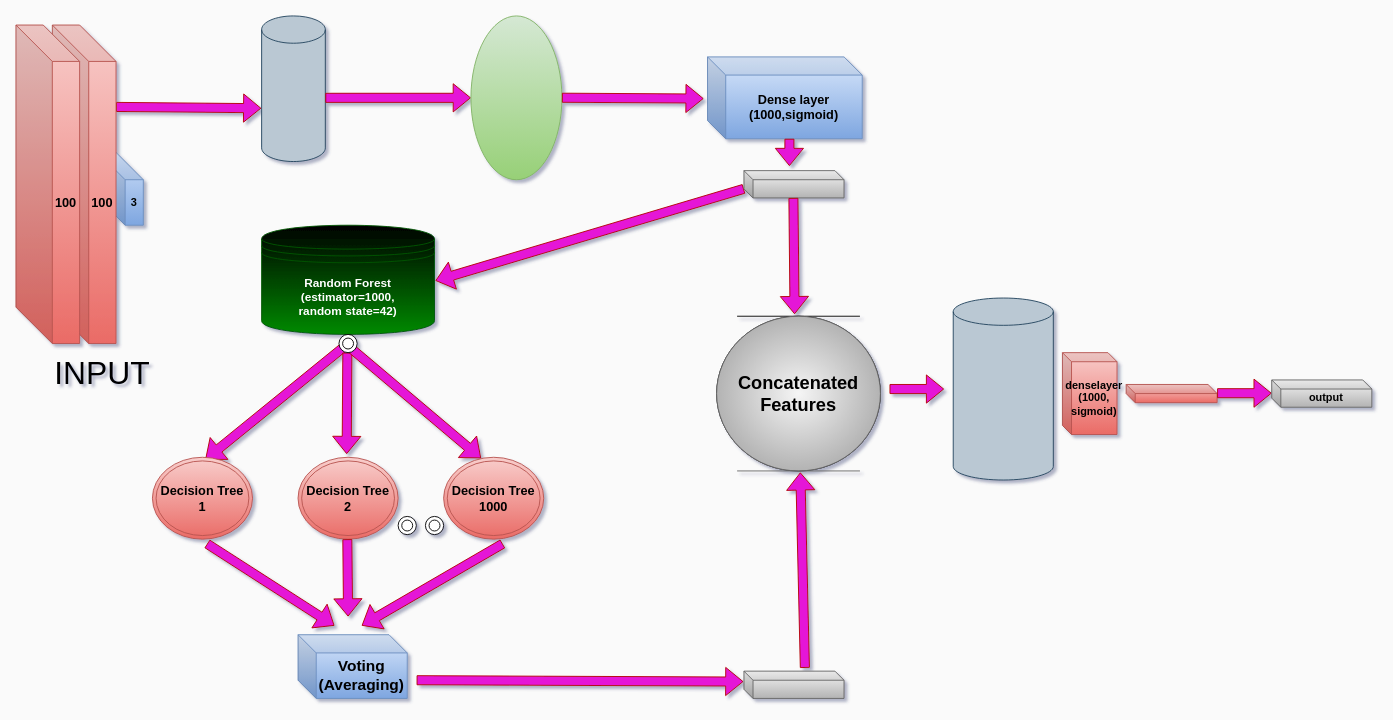
The diagram is 1393 pixels wide and 720 high, and some of its shapes have lost their labels. Here are the shapes that lost their labels. From the top down, the box of each, then its label:
(261, 15, 325, 162): vgg16 (feature extractor)
(470, 15, 562, 180): Flatten (1d array)
(743, 170, 844, 198): vgg16 features
(952, 297, 1053, 480): vgg16 (predictor) (frozen layers)
(1125, 384, 1217, 403): softmax
(743, 670, 844, 698): rf features
